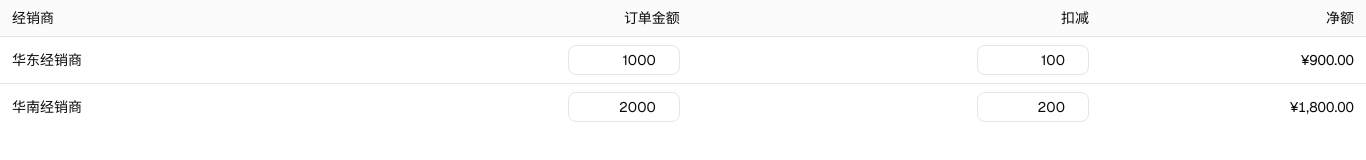
Scenario: ReconciliationLineEditor › recalculates netAmount when editing orderAmount
This screenshot has width=1366, height=160.
Replace the text in the number field named "订单金额" in the row of "华东经销商" with "1500": (624, 60) [568,45,680,75]
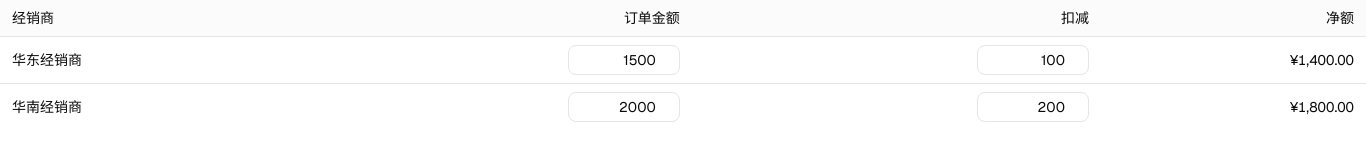
Check: the cell "¥1,400.00" is shown, box [1101,36,1365,84]
